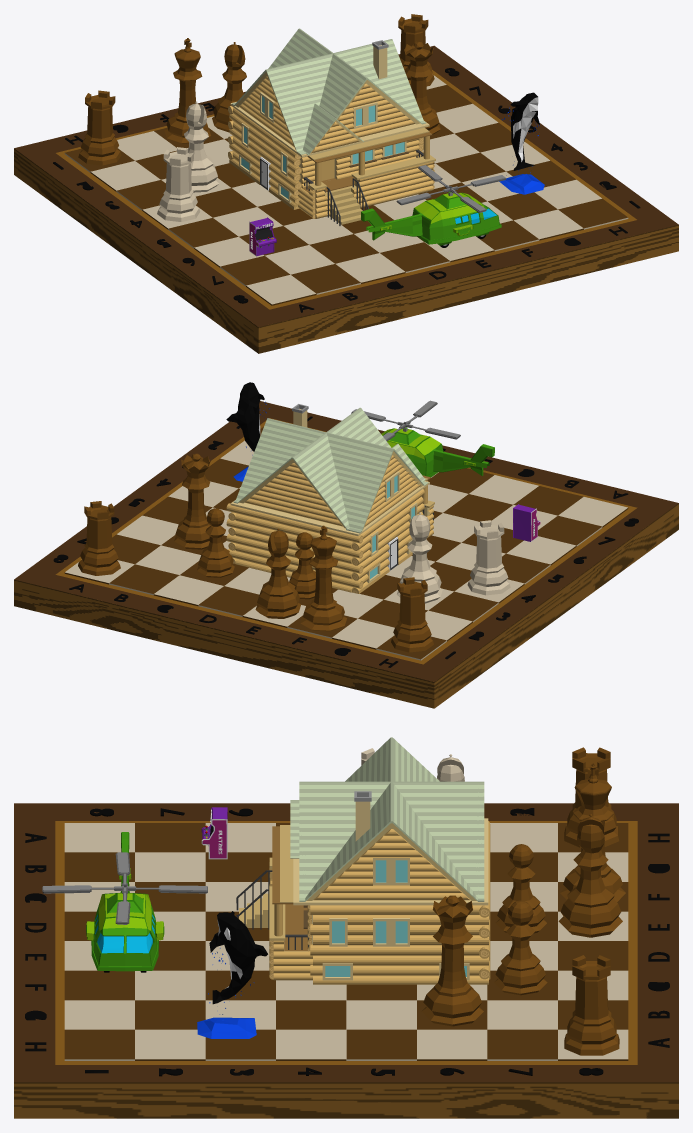
3 renders of one model, top to bottom at view 1: azimuth 30°, elevation 25°; view 2: azimuth 150°, elevation 25°; view 3: azimuth 270°, elevation 25°, orthographic. The views are drawn at different scales.
Parts seen in each view (by area): view 1: Cube.002, Cube.1516, VEHICLES_HELICOPTER, ANIMAL_ORCA, OBJRANDOM_ARCADE; view 2: Cube.002, Cube.1516, VEHICLES_HELICOPTER, ANIMAL_ORCA, OBJRANDOM_ARCADE; view 3: Cube.002, Cube.1516, VEHICLES_HELICOPTER, ANIMAL_ORCA, OBJRANDOM_ARCADE.
Boxes of the visible parts, x1,y1,x2,y2 form: Cube.002: [14, 14, 678, 353]; Cube.1516: [228, 28, 435, 225]; VEHICLES_HELICOPTER: [361, 165, 506, 247]; ANIMAL_ORCA: [499, 92, 544, 194]; OBJRANDOM_ARCADE: [249, 217, 276, 256]; Cube.002: [14, 401, 678, 708]; Cube.1516: [226, 404, 434, 593]; VEHICLES_HELICOPTER: [351, 400, 494, 477]; ANIMAL_ORCA: [226, 382, 269, 481]; OBJRANDOM_ARCADE: [513, 504, 540, 541]; Cube.002: [14, 747, 678, 1118]; Cube.1516: [236, 737, 490, 984]; VEHICLES_HELICOPTER: [42, 832, 207, 972]; ANIMAL_ORCA: [197, 911, 267, 1038]; OBJRANDOM_ARCADE: [201, 807, 227, 859].
Size of the model in its own units: 3981 by 1484 by 4012.
43 materials, 3 textured.
